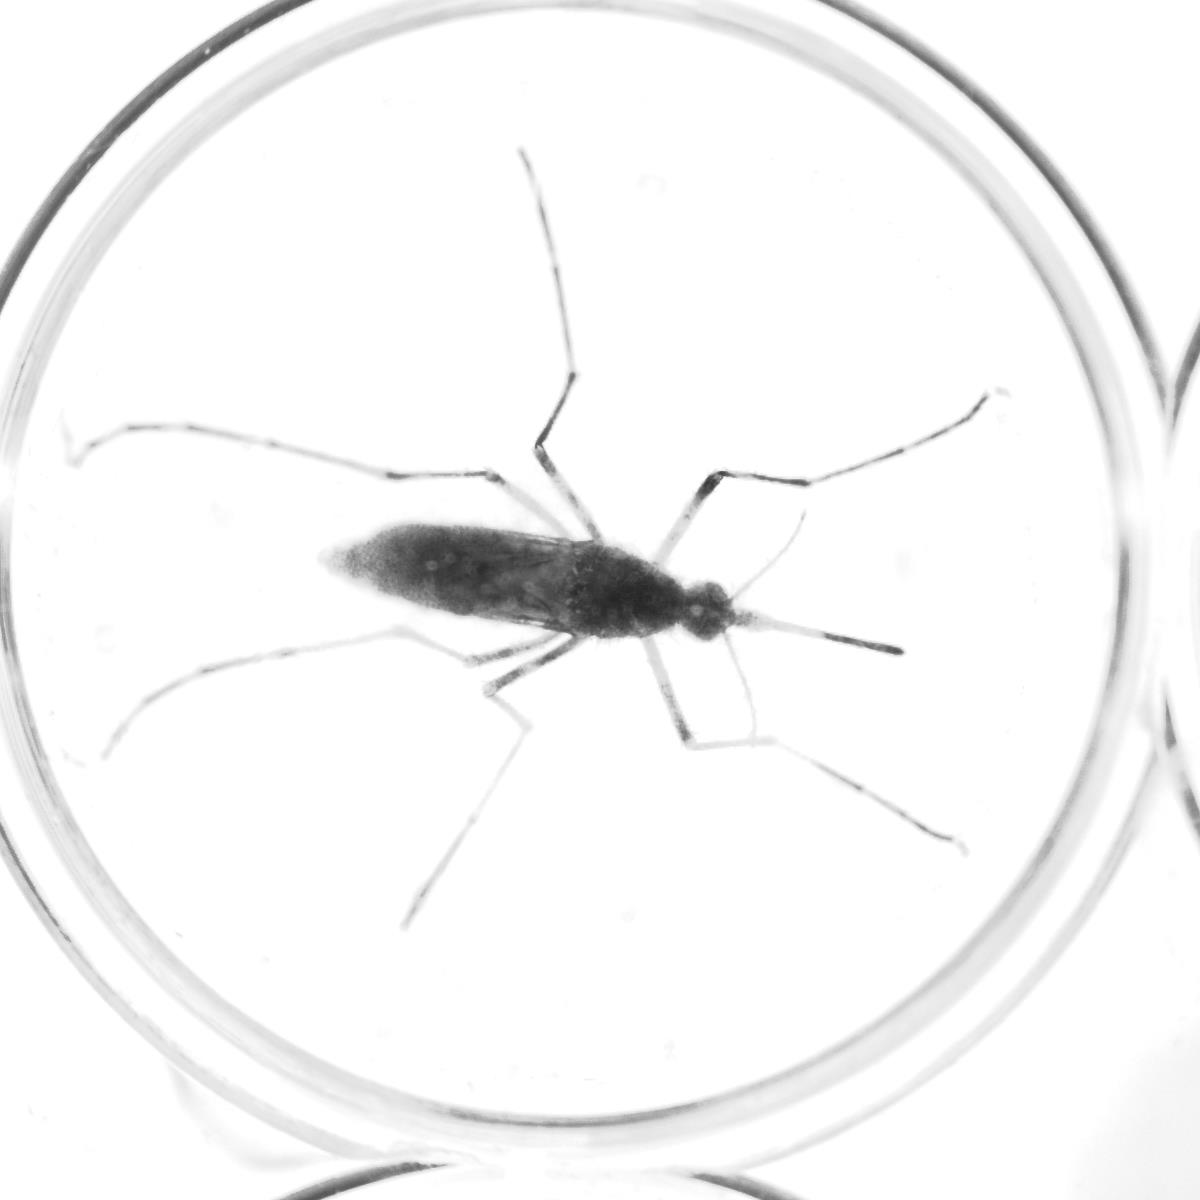f-a: (684, 542, 978, 701)
f-b: (120, 333, 1060, 851)
